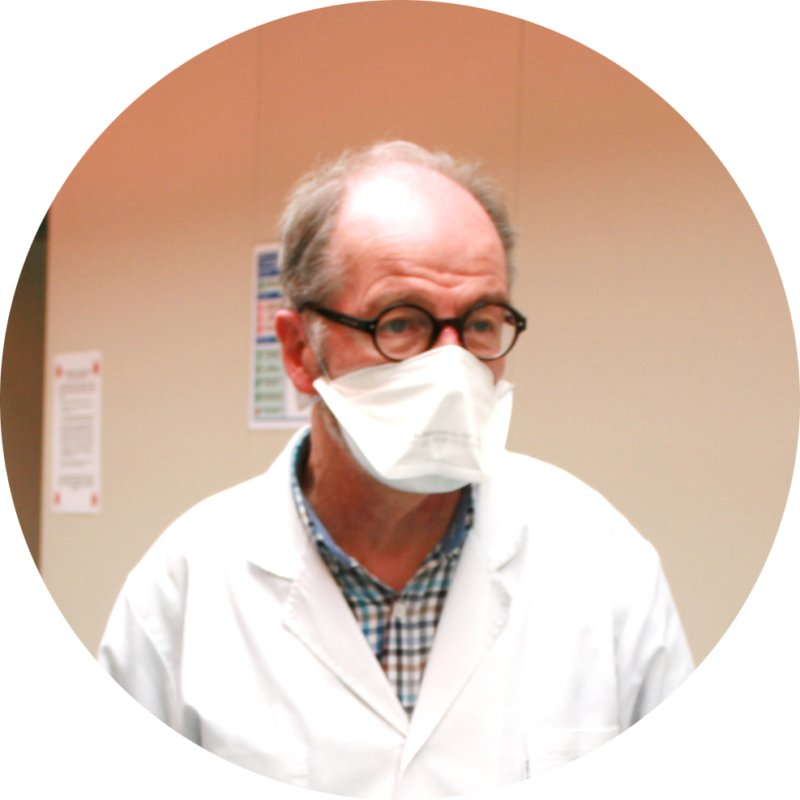with_mask: (324, 261, 502, 503)
